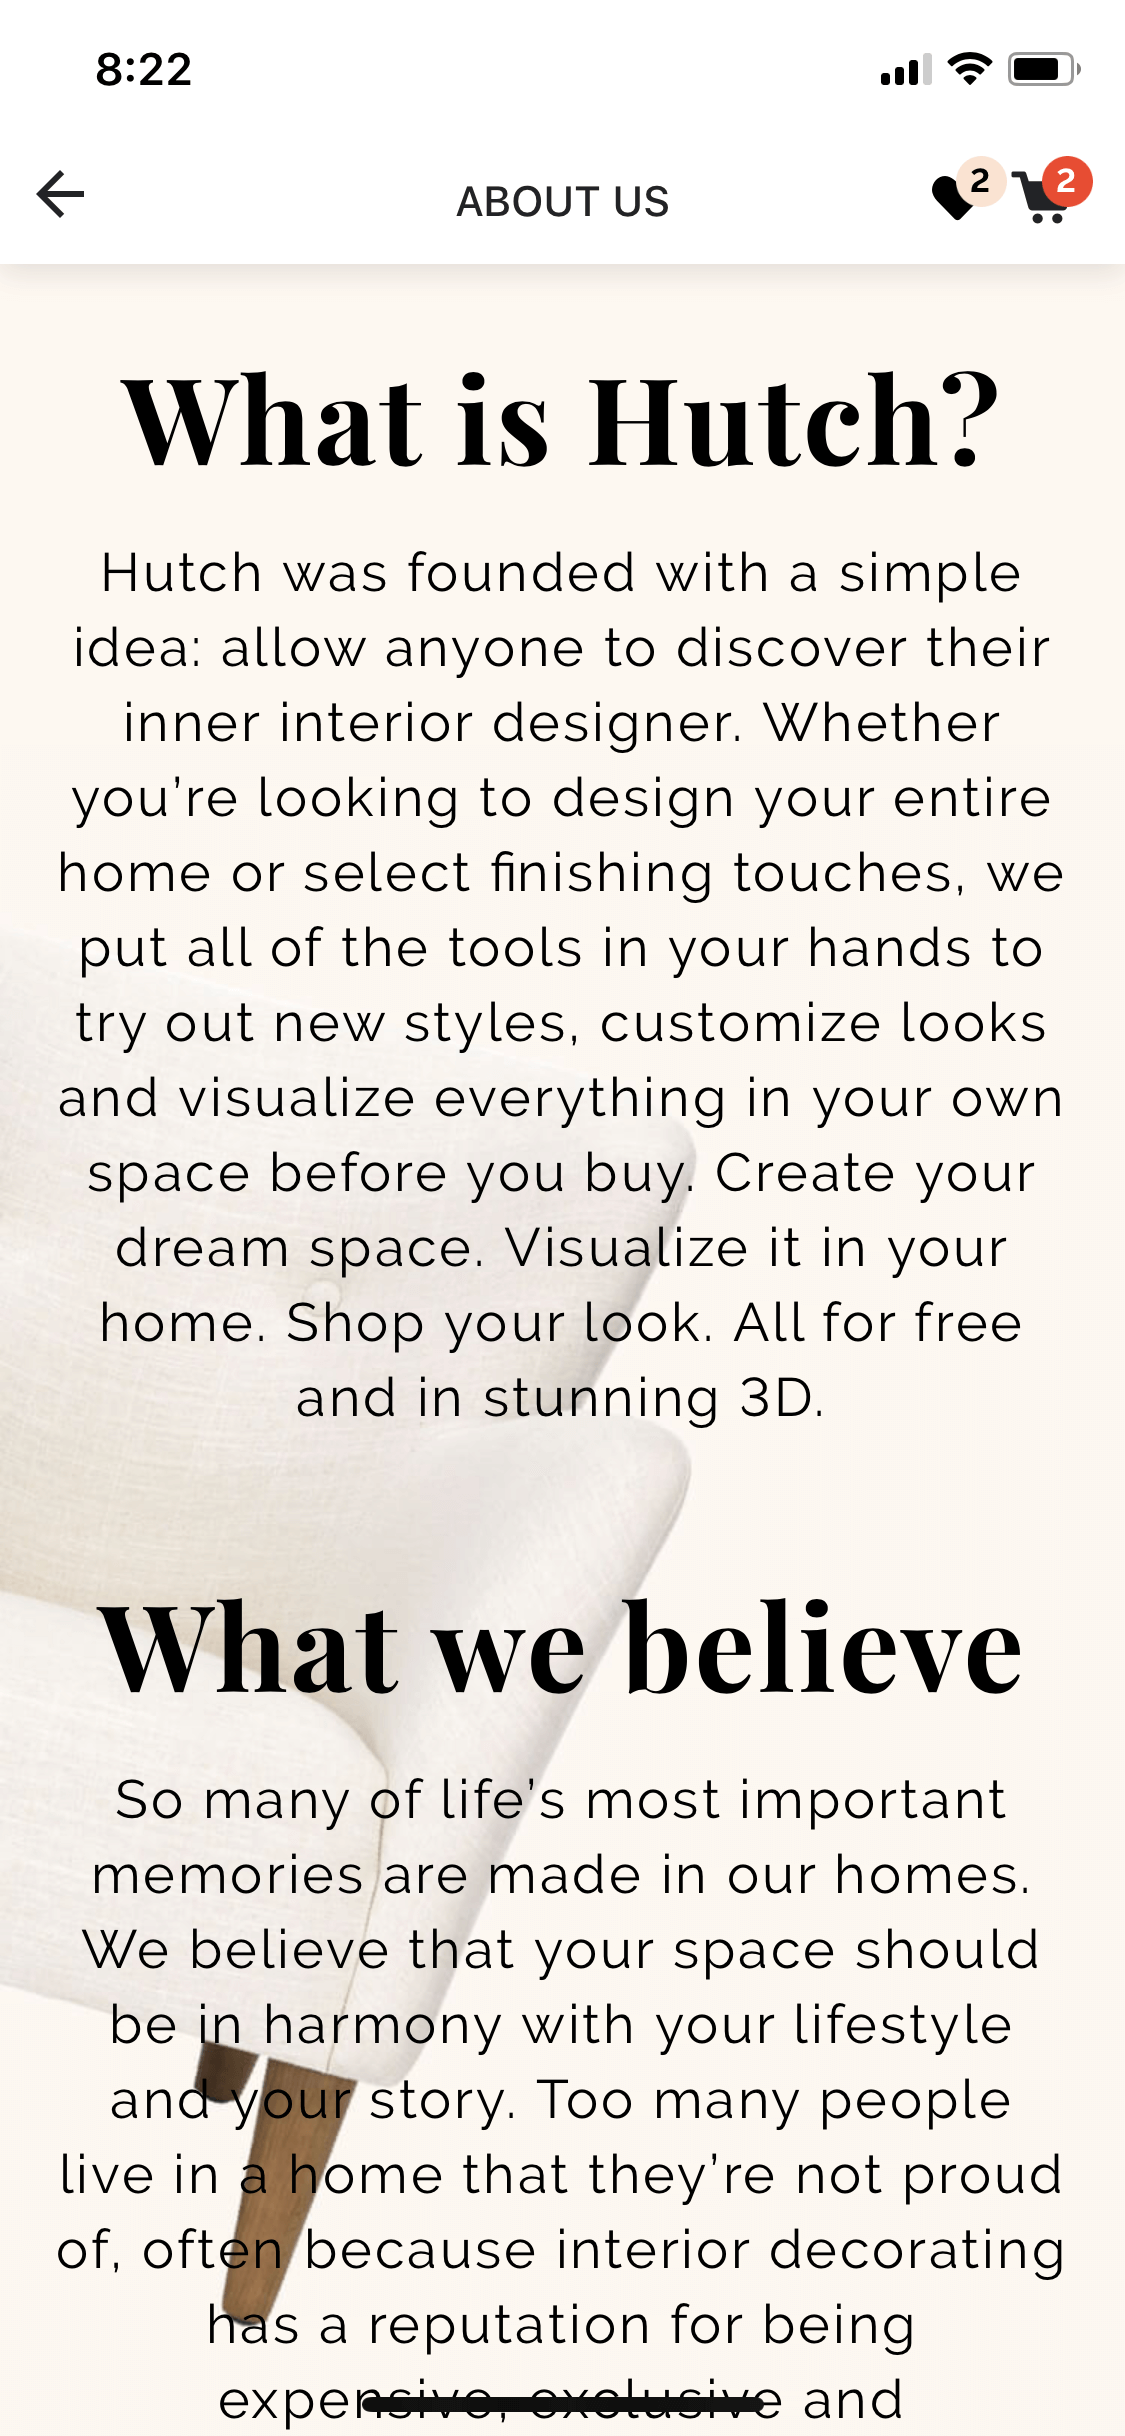Buttons: (9, 135, 113, 236), (998, 135, 1097, 228), (914, 137, 998, 235)
